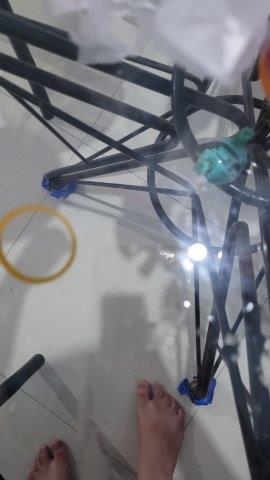karet: (1, 205, 77, 283)
